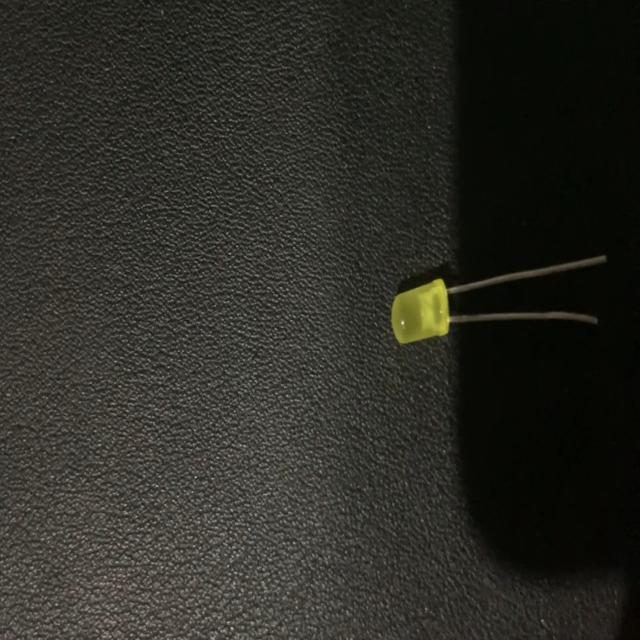LED: (387, 248, 608, 346)
